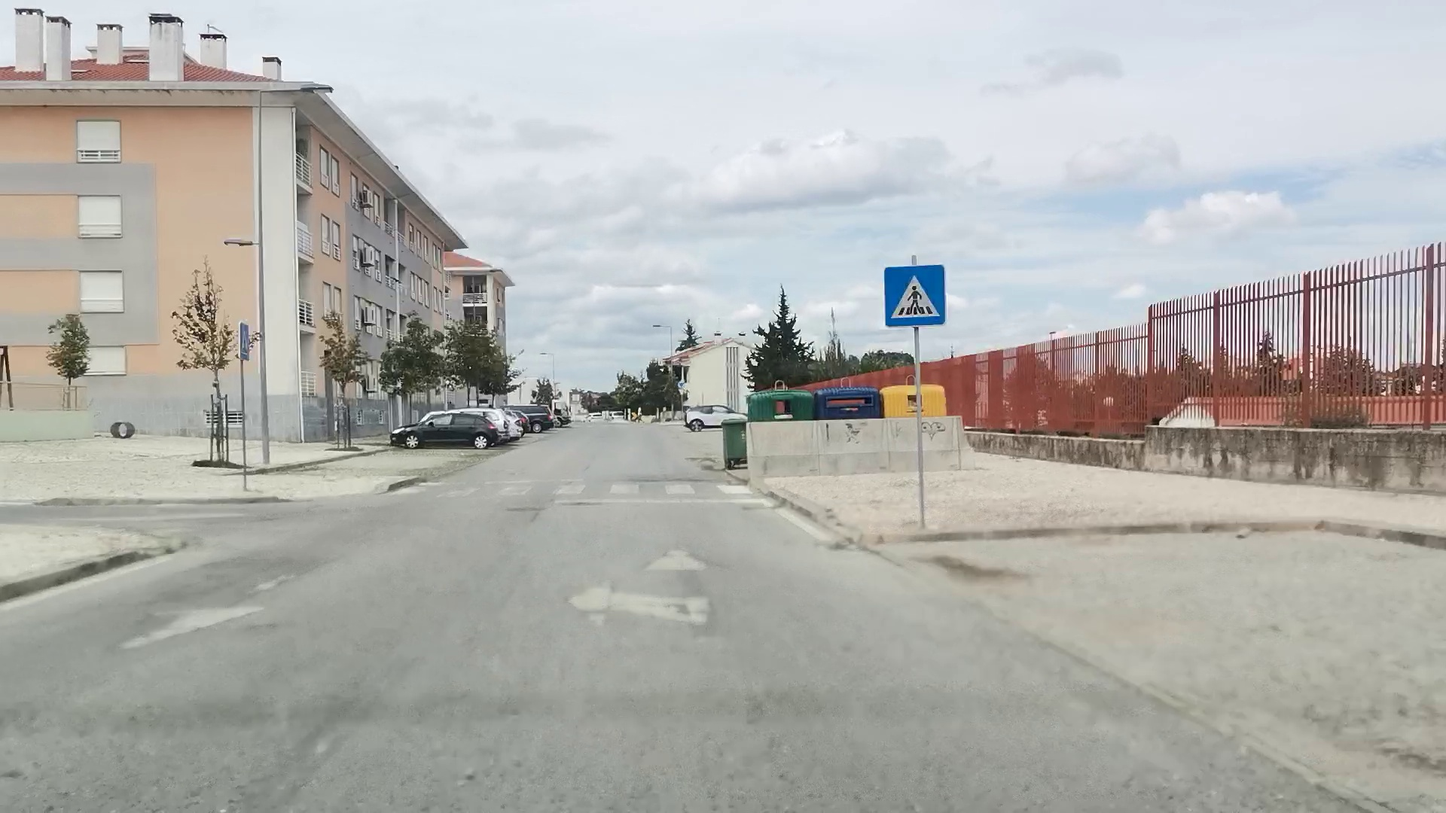Stairs: (389, 479, 752, 502)
